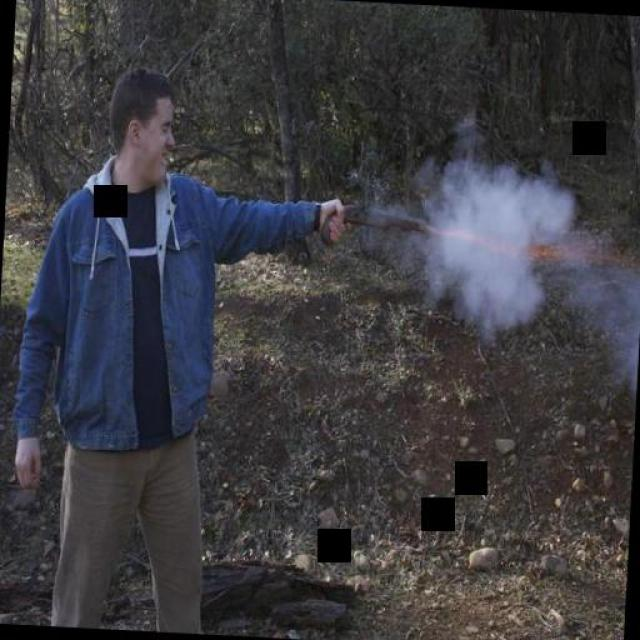gun: (316, 194, 428, 256)
